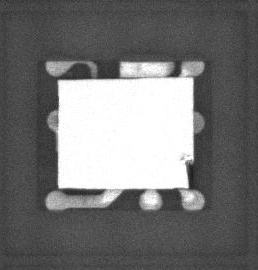DIE_INK: (179, 151, 191, 162)
